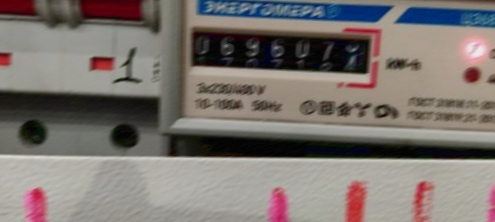0: (294, 38, 310, 61), (194, 36, 209, 57)
4: (343, 54, 357, 76)
6: (219, 36, 234, 58), (269, 39, 284, 60)
7: (318, 42, 335, 64)
9: (244, 37, 258, 59)
screen: (175, 18, 384, 88)
